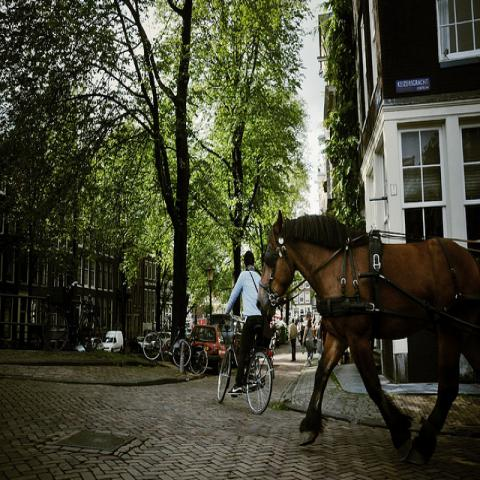car: (188, 325, 227, 373), (208, 318, 243, 359), (152, 331, 170, 348), (91, 337, 105, 352)
truck: (102, 330, 123, 353)
